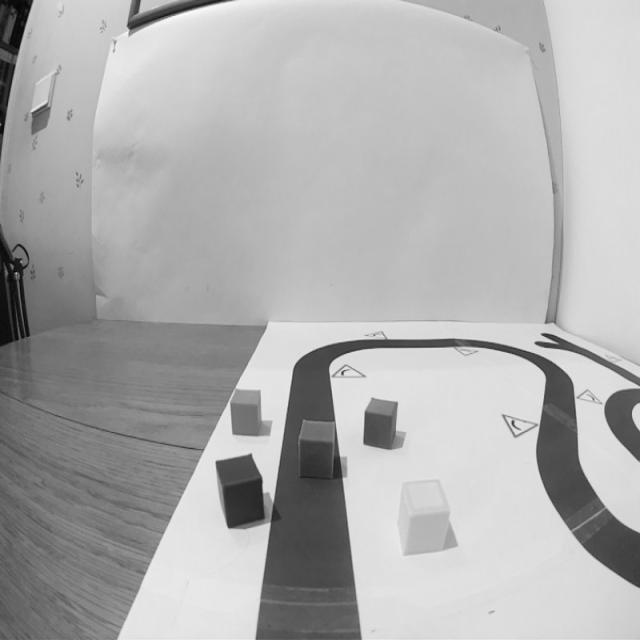cube: (212, 452, 270, 530), (293, 413, 340, 485), (361, 392, 400, 454), (229, 385, 265, 440)
cylinder: (393, 475, 452, 558)
lineStraight: (258, 479, 362, 640)
